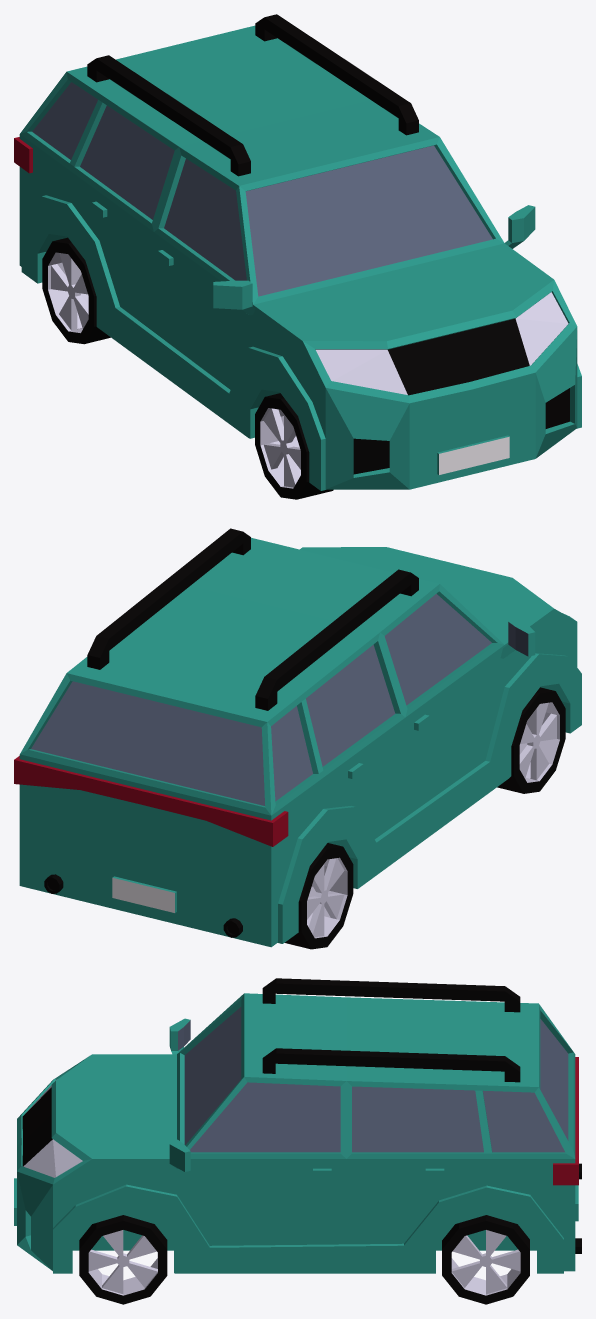
File: suv.glb
3 views of the same model, one above another, from view 1: azimuth 30°, elevation 25°; view 2: azimuth 150°, elevation 25°; view 3: azimuth 270°, elevation 25° (orthographic). The views are drawn at different scales.
Visible parts, largest first — view 1: body; view 2: body; view 3: body.
Boxes of the visible parts, left/top/right/bottom form: body: left=14, top=14, right=581, bottom=499; body: left=14, top=528, right=581, bottom=949; body: left=14, top=978, right=581, bottom=1304.
Size of the model in its own units: 2.81 by 2.3 by 5.04.
